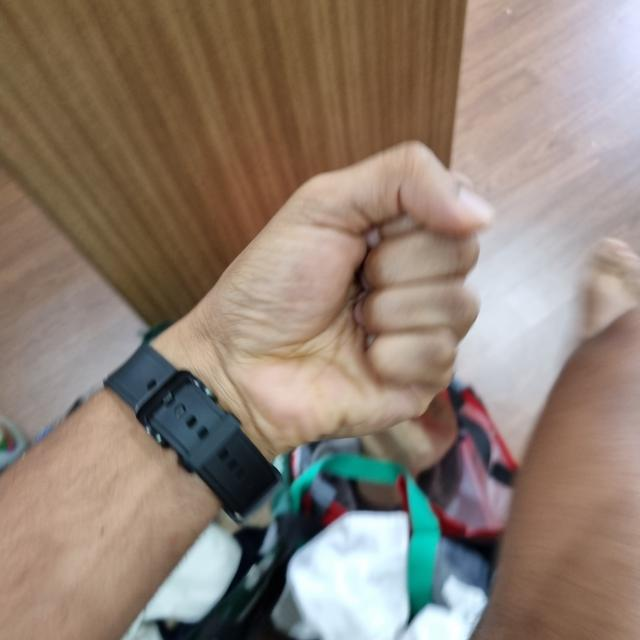Rock: (163, 145, 639, 639)
